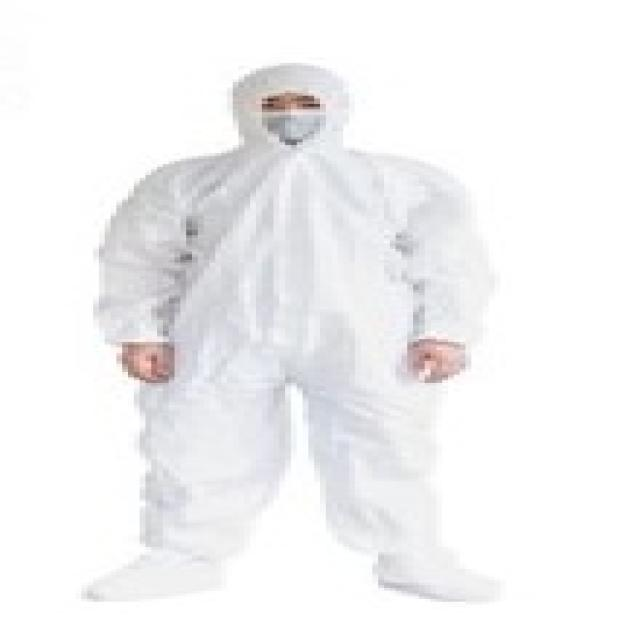Coverall: (70, 55, 518, 610)
Mask: (233, 104, 343, 137)
